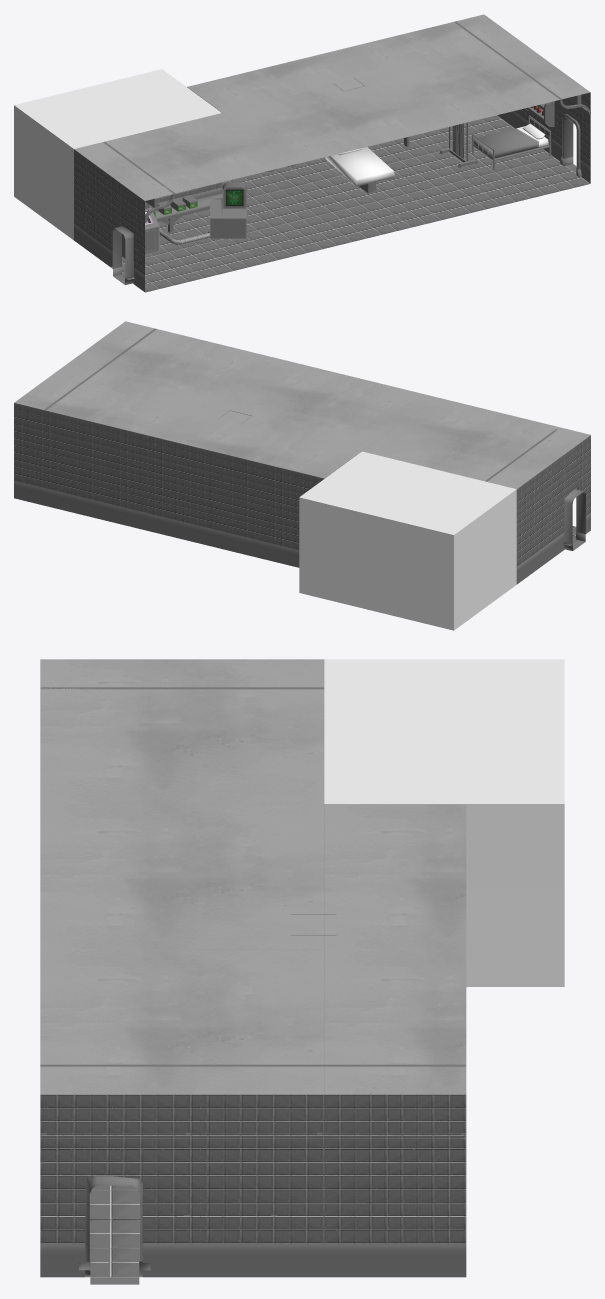
File: MSH_Med_room_L2_R3_optimized.fbx
3 views of the same model, one above another, from view 1: azimuth 30°, elevation 25°; view 2: azimuth 150°, elevation 25°; view 3: azimuth 270°, elevation 25° (orthographic). The views are drawn at different scales.
Parts seen in each view (by area): view 1: lightmap0, lightmap1, lightmap-1; view 2: lightmap0, lightmap-1; view 3: lightmap0, lightmap-1.
Boxes of the visible parts, x1,y1,x2,y2 form: lightmap0: (14, 14, 590, 292); lightmap1: (119, 78, 554, 258); lightmap-1: (112, 118, 576, 284); lightmap0: (14, 321, 590, 630); lightmap-1: (564, 489, 585, 550); lightmap0: (40, 659, 564, 1277); lightmap-1: (89, 1177, 139, 1284).
Bounding box in the file's own units: 30.91 × 5.99 × 15.24.
4 materials, 4 textured.
